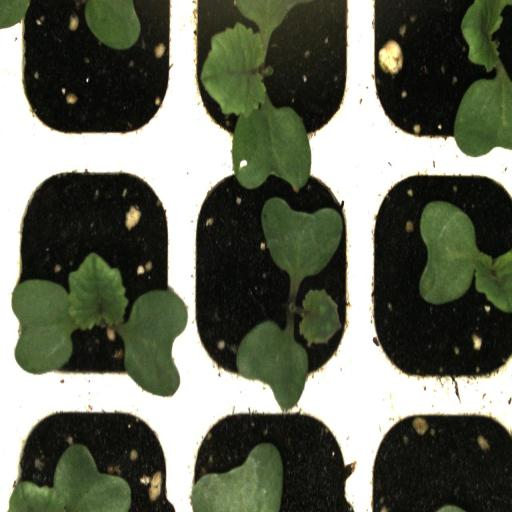seedling: (176, 156, 360, 395), (5, 156, 176, 396), (360, 155, 512, 394), (182, 0, 362, 155)
